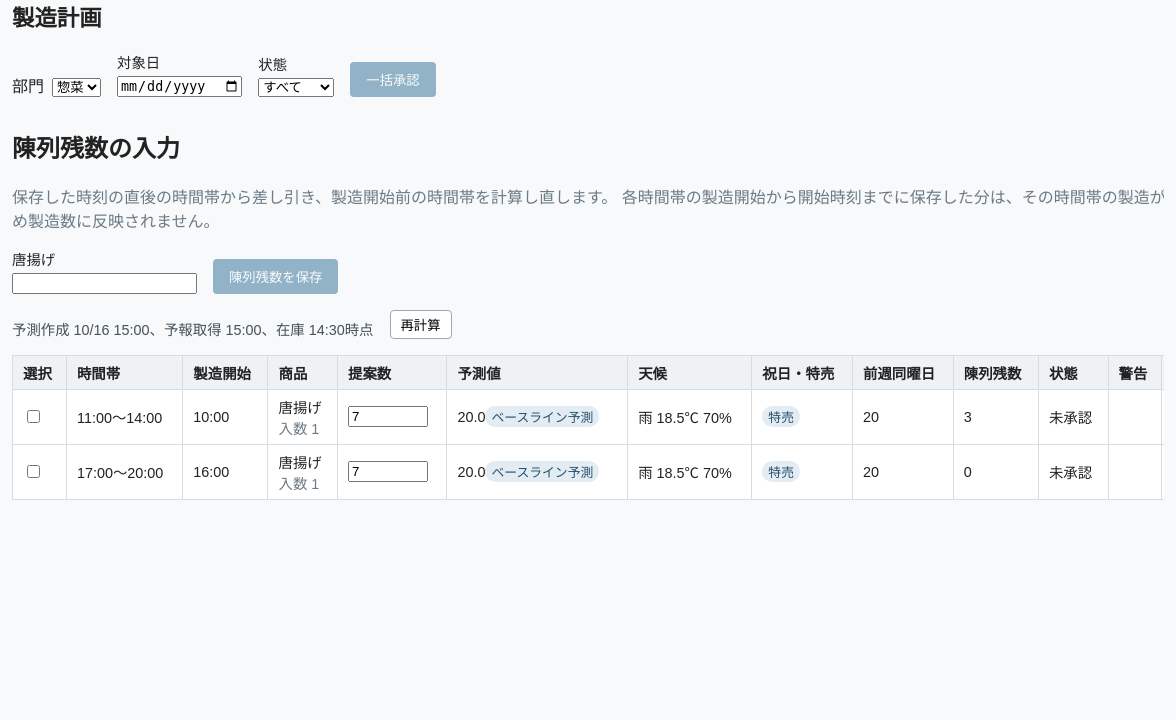
it: saving display stock shows the plan of the day and tracks the recalculation
Expected: the heading "製造計画" is shown, [12,6,102,31]
Type "3" into the number field named "唐揚げ の陳列残数" at (104, 283), box [12,273,197,294]
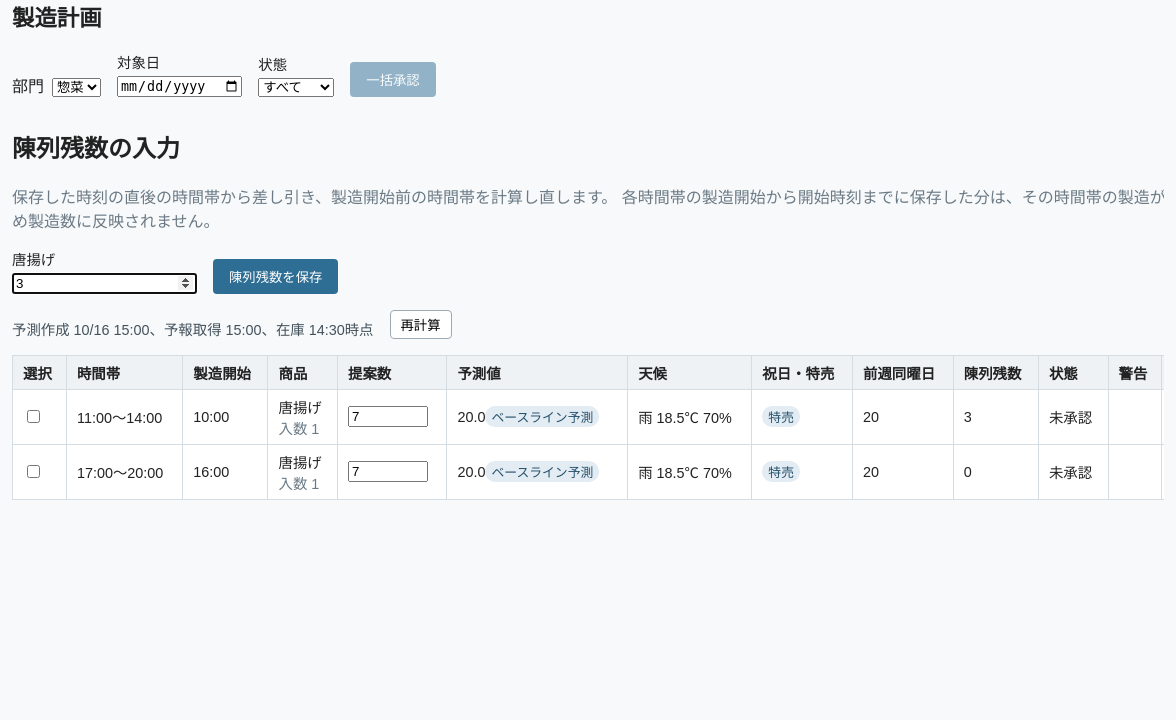
Click the button "陳列残数を保存" at (276, 276), box [213,259,338,294]
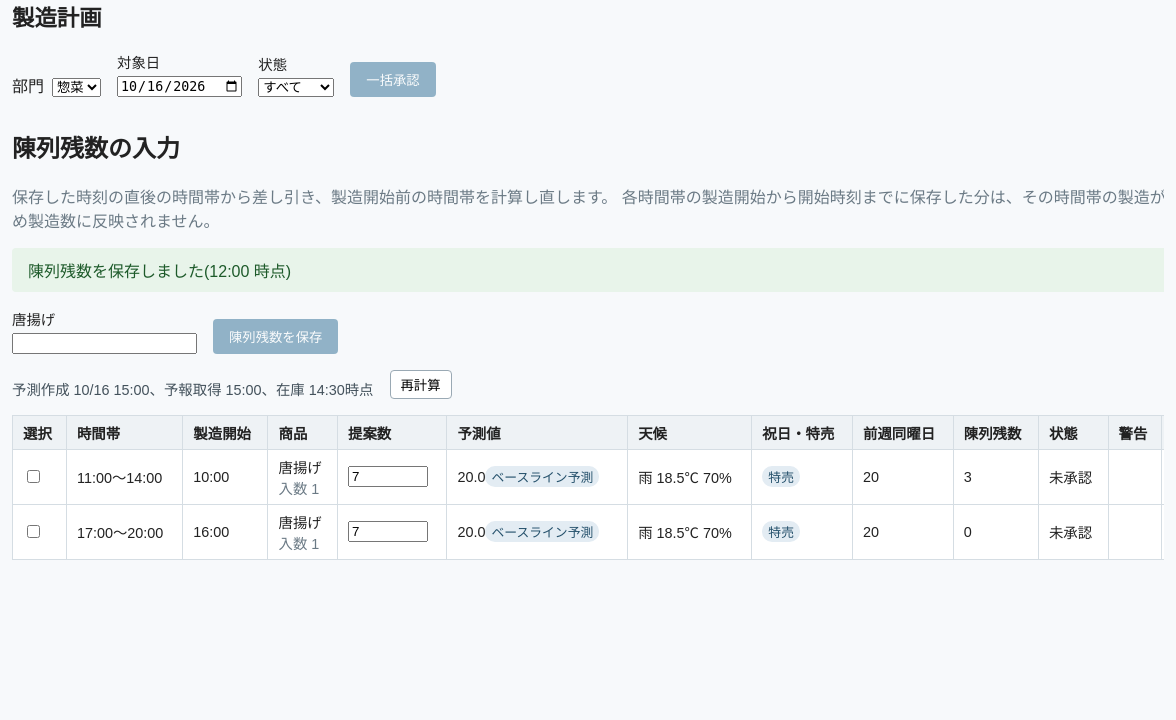
Expected: the date field labelled "対象日" holds "2026-10-16", [117,76,242,97]
